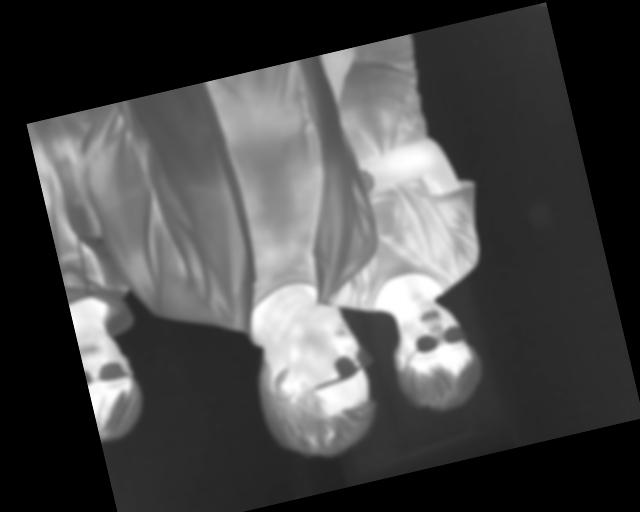face: (239, 296, 387, 472), (381, 290, 488, 421), (76, 322, 151, 444)
